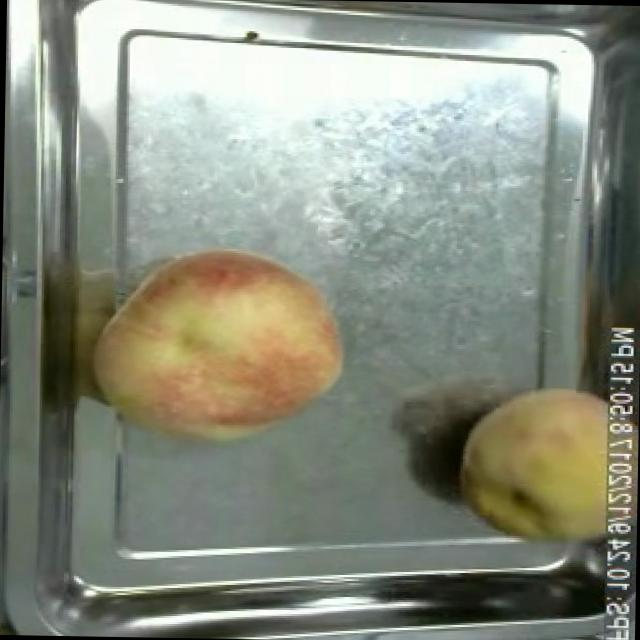Fruit: (84, 236, 354, 454), (448, 374, 612, 569)
